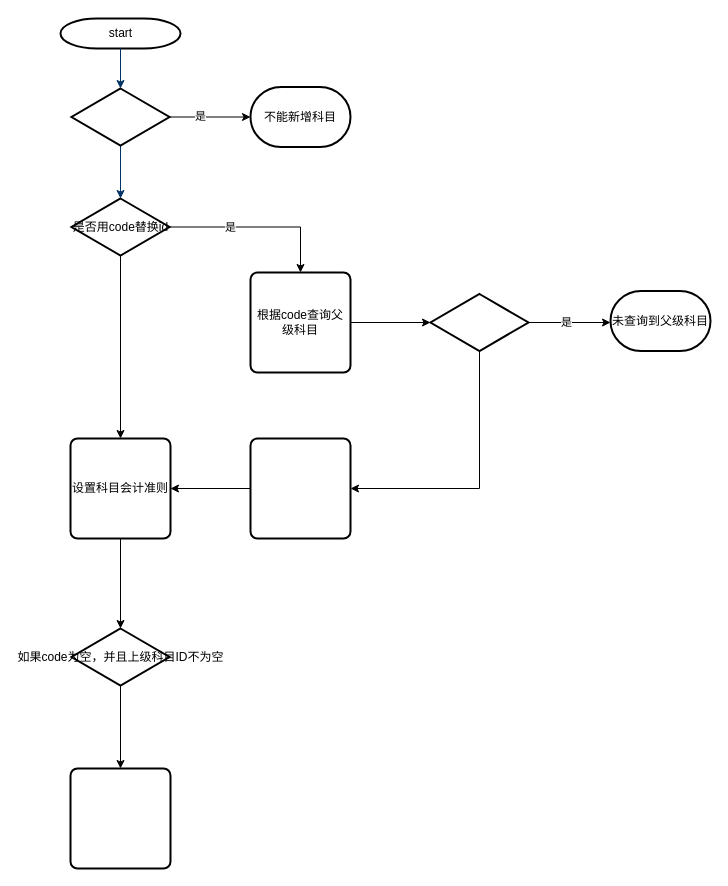
This 728x886 diagram has some shape labels left out. The centre of each missing label's shape, as x and y in pixels:
检测阿里配置: (x=120, y=116)
父级科目为空: (x=479, y=322)
生成code: (x=120, y=818)
设置父级科目ID: (x=300, y=488)
